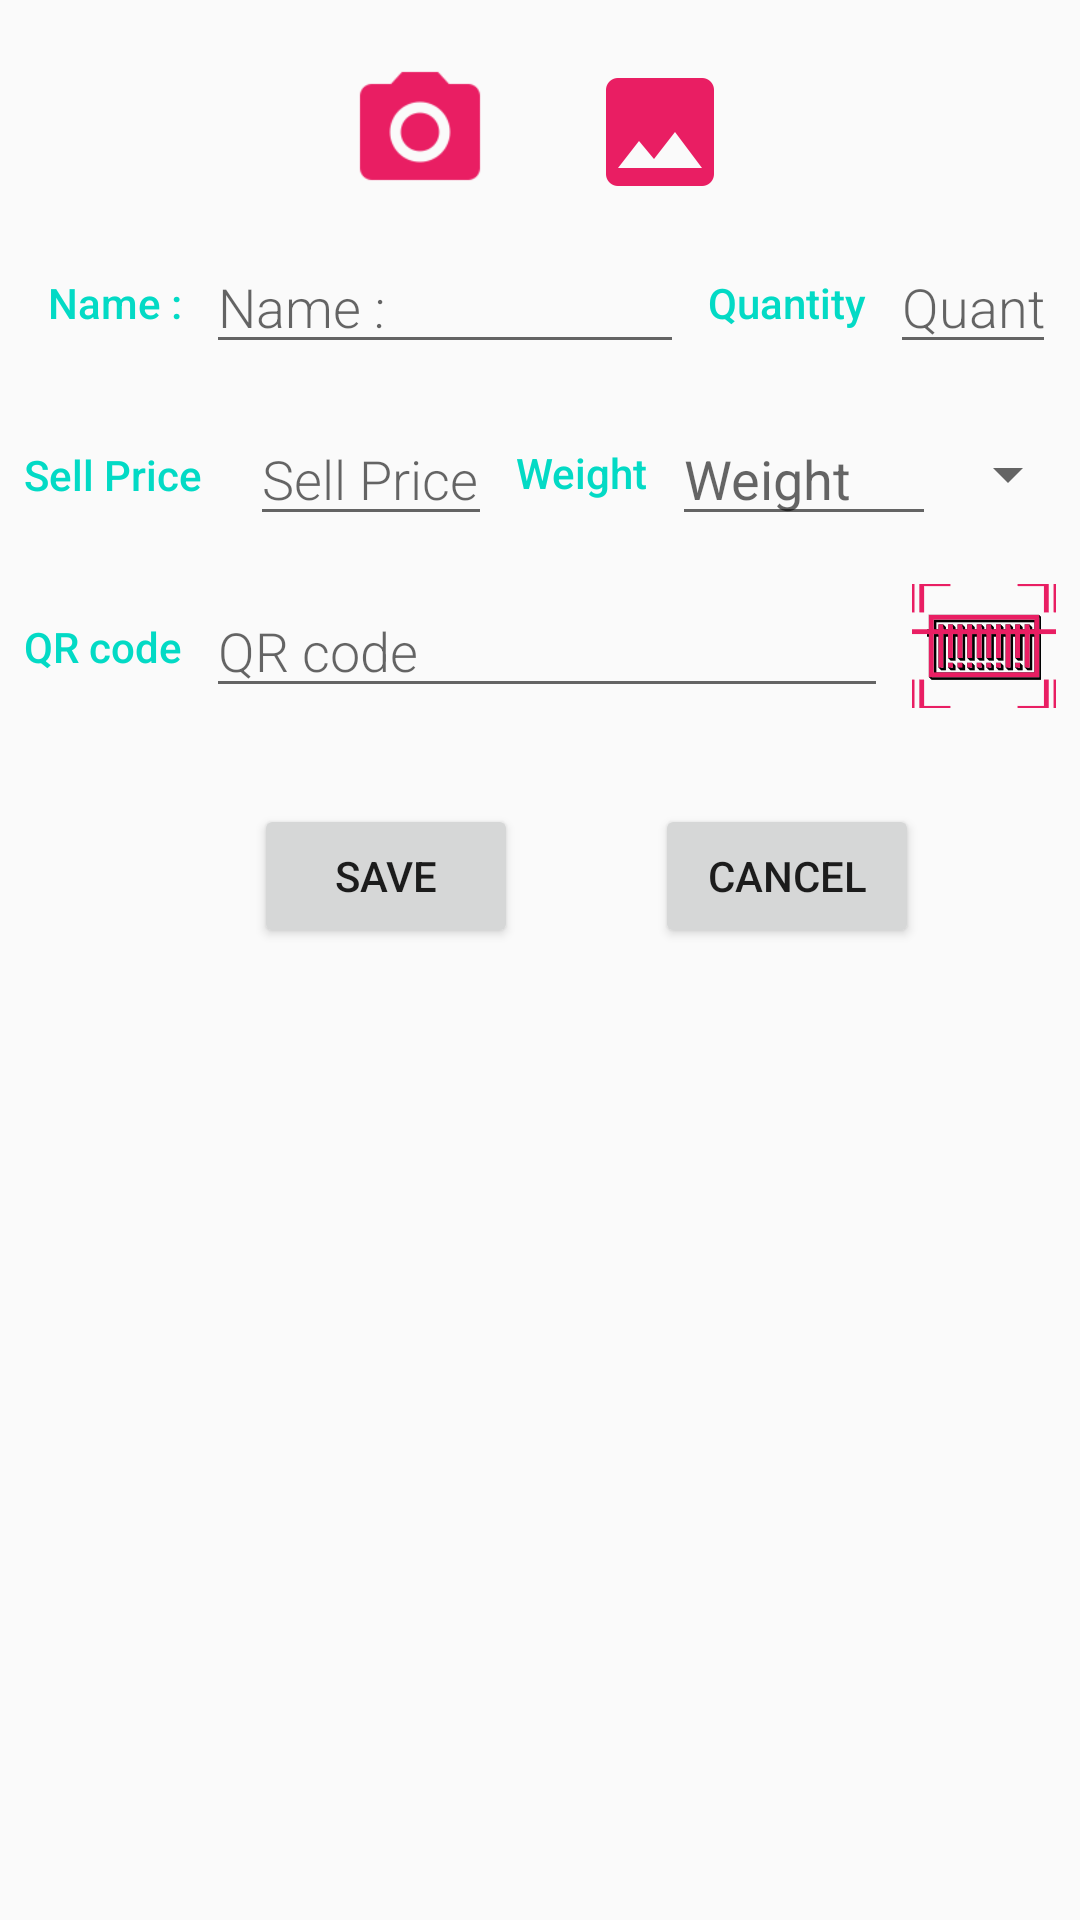

Icon bounding boxes for this 1080px x 1920px phone screenshot, format (x1=x1, y1=y1, x2=x2, y2=y2):
insert photo: (x1=606, y1=78, x2=714, y2=186)
photo camera: (x1=359, y1=71, x2=481, y2=181)
scan: (x1=912, y1=584, x2=1056, y2=708)
